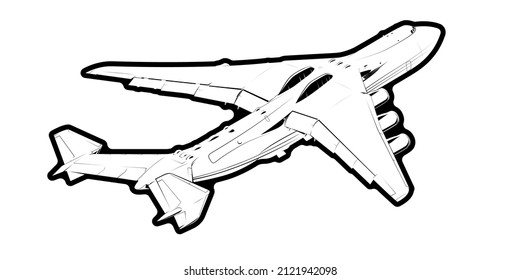airplane: (48, 17, 450, 231)
